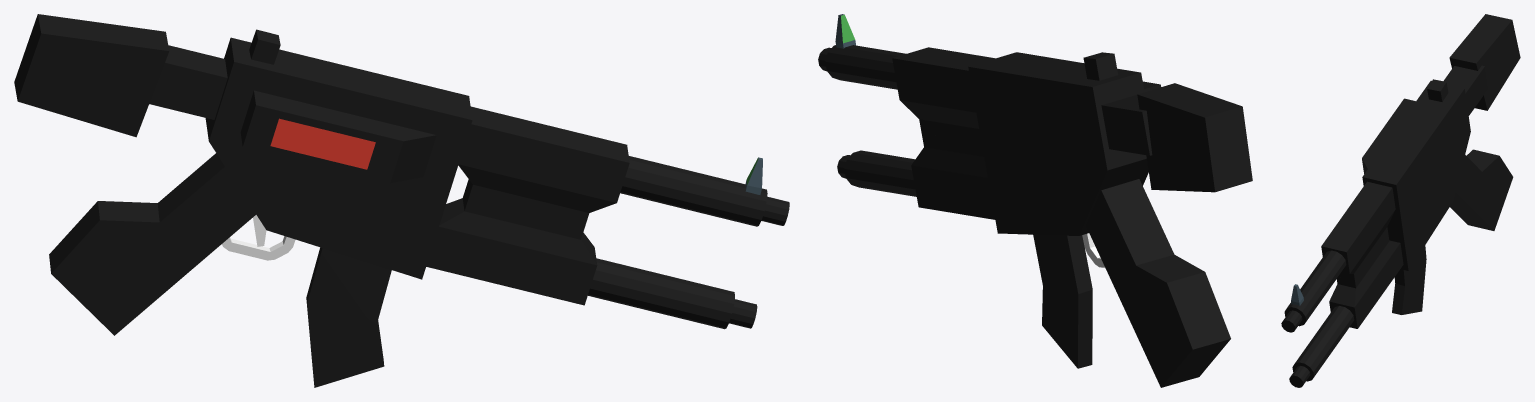
The model's file is robotgun.fbx.
3 renders of one model, left to right at view 1: azimuth 30°, elevation 25°; view 2: azimuth 150°, elevation 25°; view 3: azimuth 270°, elevation 25°, orthographic. The views are drawn at different scales.
Visible parts, largest first — view 1: group37886617, group1496819355; view 2: group37886617, group1496819355; view 3: group37886617, group1496819355.
Part boxes in pixels (bbox=[...]): group37886617: bbox=[14, 14, 789, 335]; group1496819355: bbox=[306, 247, 391, 387]; group37886617: bbox=[818, 14, 1252, 387]; group1496819355: bbox=[1033, 234, 1092, 368]; group37886617: bbox=[1281, 14, 1520, 387]; group1496819355: bbox=[1392, 245, 1426, 314].
Bounding box in the file's own units: 53.66 × 30.59 × 28.93.
